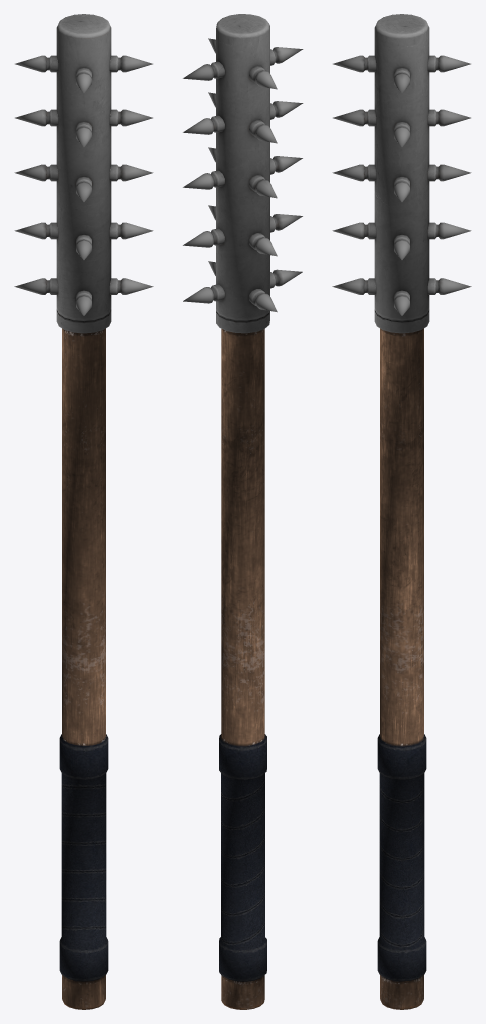
The model's file is SM_Mace_01.fbx.
The picture shows the model from 3 angles, left to right: view 1: azimuth 90°, elevation 25°; view 2: azimuth 210°, elevation 25°; view 3: azimuth 270°, elevation 25°; orthographic projection.
Visible parts, largest first — view 1: SM_Mace_01_LOD0; view 2: SM_Mace_01_LOD0; view 3: SM_Mace_01_LOD0.
Part boxes in pixels (left/top/right/bottom): SM_Mace_01_LOD0: left=14, top=14, right=153, bottom=1009; SM_Mace_01_LOD0: left=183, top=14, right=303, bottom=1009; SM_Mace_01_LOD0: left=332, top=14, right=471, bottom=1009.
Size of the model in its own units: 11 by 11 by 84.88.
1 material, 1 textured.
